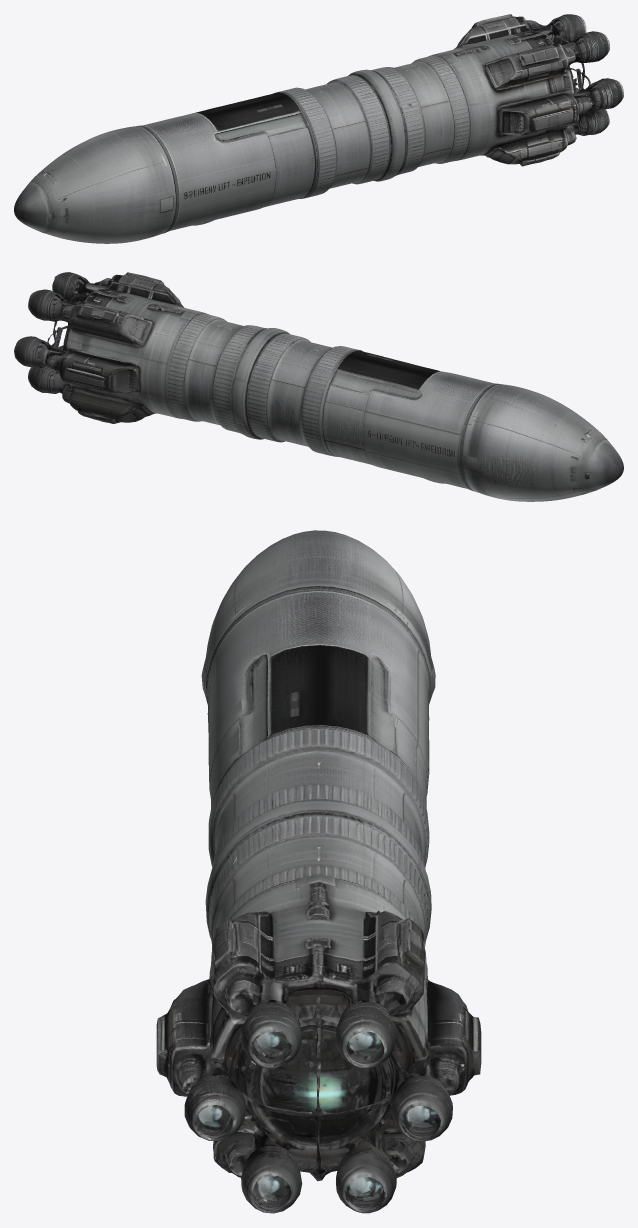
The model's file is launch-vehicle-BS-7exGr.glb.
3 views of the same model, one above another, from view 1: azimuth 30°, elevation 25°; view 2: azimuth 150°, elevation 25°; view 3: azimuth 270°, elevation 25° (orthographic). The views are drawn at different scales.
Visible parts, largest first — view 1: Mesh0; view 2: Mesh0; view 3: Mesh0.
Part boxes in pixels (<box>): Mesh0: <box>14,14,623,243</box>; Mesh0: <box>14,272,623,501</box>; Mesh0: <box>156,530,481,1213</box>.
Bounding box in the file's own units: 1.91 × 0.3542 × 0.4651.
1 material, 1 textured.
